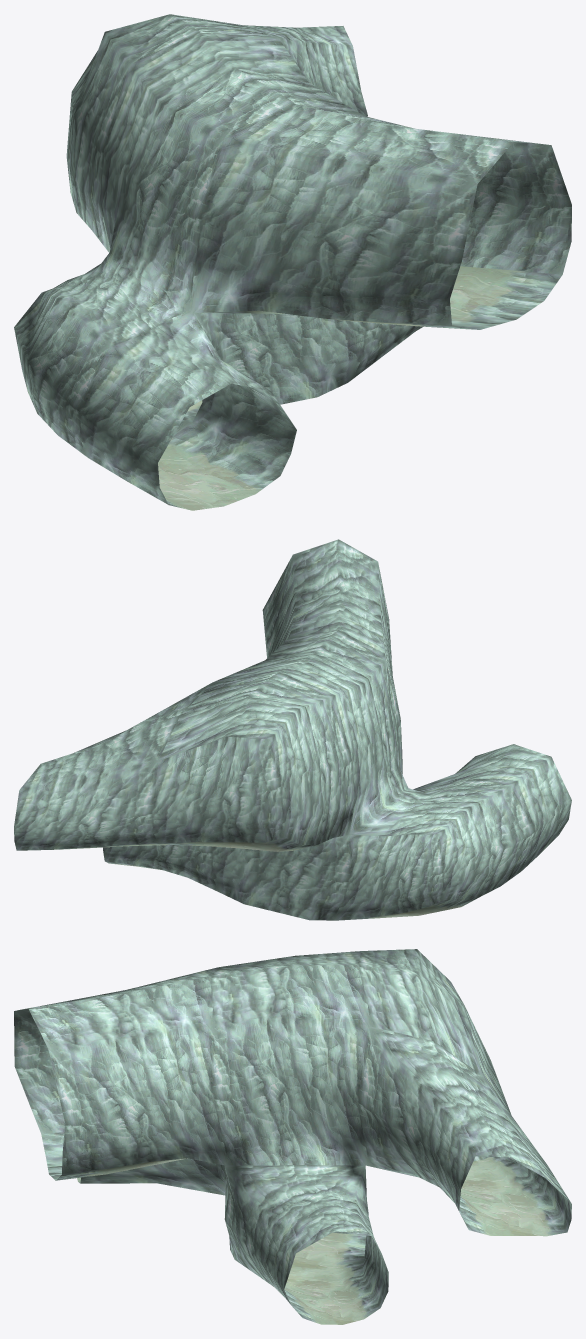
Rendered from TROLLHOLE02_PS-SECRETCAVE06.fbx.
3 renders of one model, top to bottom at view 1: azimuth 30°, elevation 25°; view 2: azimuth 150°, elevation 25°; view 3: azimuth 270°, elevation 25°, orthographic. The views are drawn at different scales.
Parts seen in each view (by area): view 1: TROLLHOLE02_PS-SECRETCAVE06; view 2: TROLLHOLE02_PS-SECRETCAVE06; view 3: TROLLHOLE02_PS-SECRETCAVE06.
Part boxes in pixels (<box>): TROLLHOLE02_PS-SECRETCAVE06: <box>14,14,571,510</box>; TROLLHOLE02_PS-SECRETCAVE06: <box>14,539,571,920</box>; TROLLHOLE02_PS-SECRETCAVE06: <box>14,949,571,1324</box>.
Size of the model in its own units: 171544 by 110906 by 205632.
4 materials, 4 textured.
